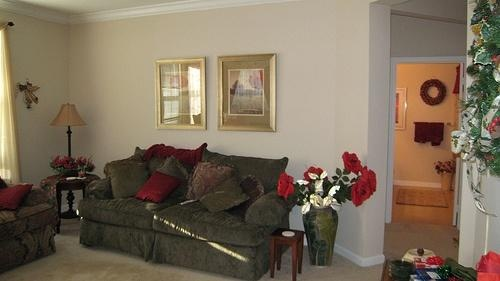sofa: (84, 145, 292, 273), (1, 163, 63, 280)
